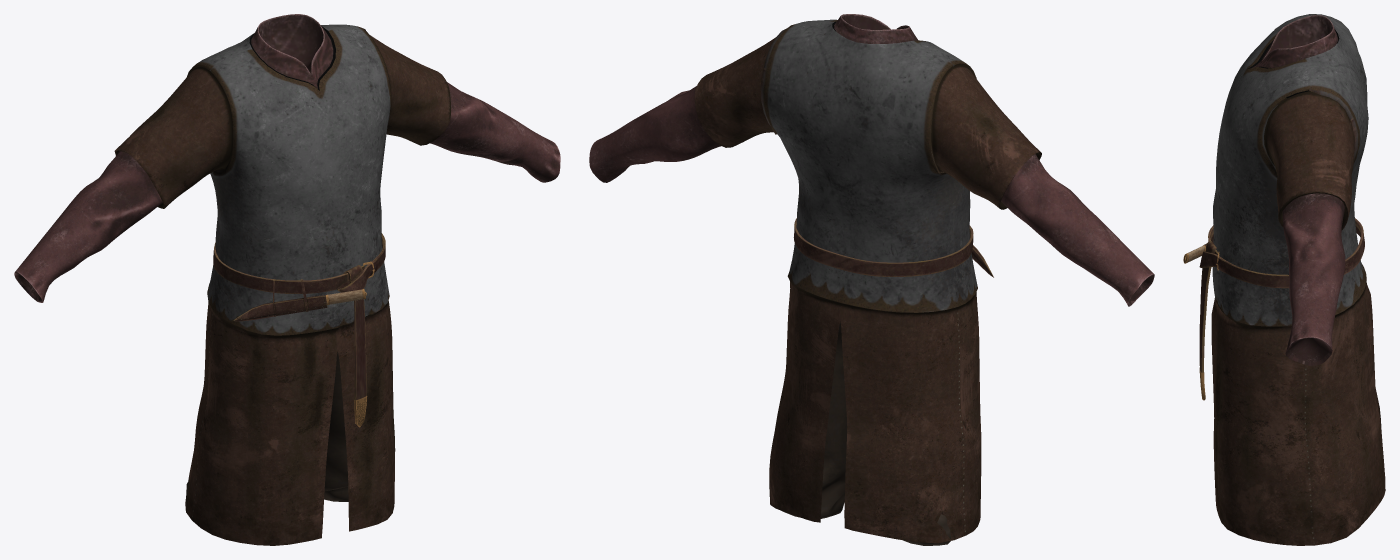
The model's file is cts_rohan_armor2.fbx.
3 views of the same model, side by side, from view 1: azimuth 30°, elevation 25°; view 2: azimuth 150°, elevation 25°; view 3: azimuth 270°, elevation 25° (orthographic). The views are drawn at different scales.
Visible parts, largest first — view 1: cts_rohan_armor2; view 2: cts_rohan_armor2; view 3: cts_rohan_armor2.
Part boxes in pixels (x1,y1,x2,y2): cts_rohan_armor2: (14, 14, 560, 545); cts_rohan_armor2: (589, 14, 1154, 545); cts_rohan_armor2: (1183, 14, 1385, 545).
Bounding box in the file's own units: 1.38 × 0.4543 × 1.18.
Materials: 1 (1 with a texture image).
